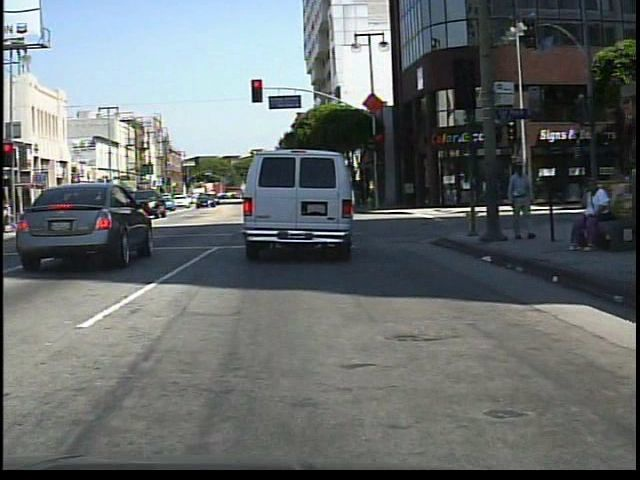person: (565, 173, 620, 256), (504, 159, 536, 244), (3, 193, 18, 236)
